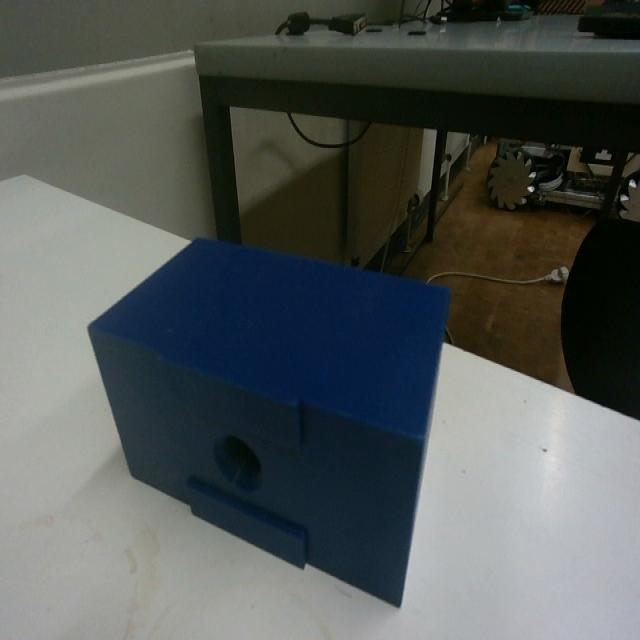Blue Cuboid: (85, 231, 452, 608)
